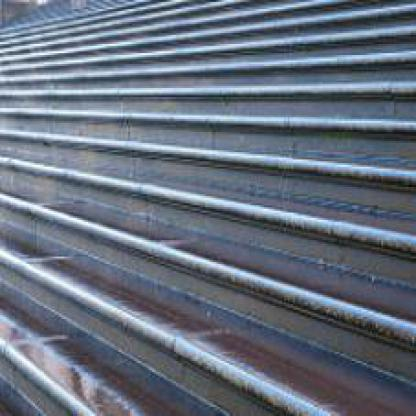stair_up: (22, 34, 365, 346)
